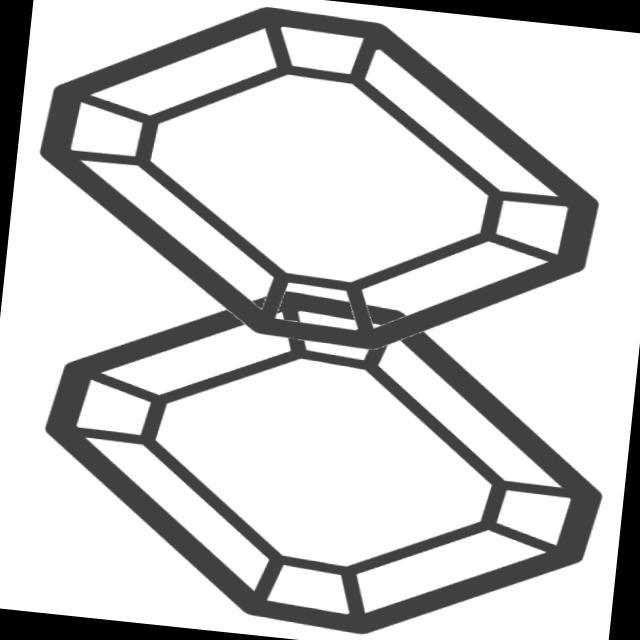emerald: (4, 252, 630, 640), (12, 1, 630, 384)
